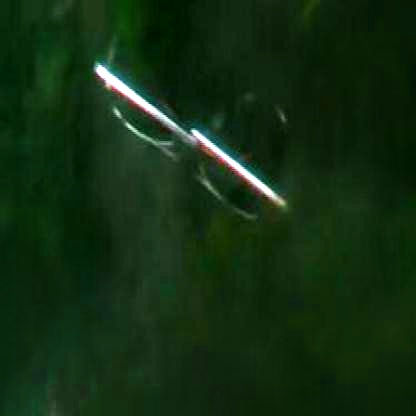sunglasses: (88, 39, 294, 258)
